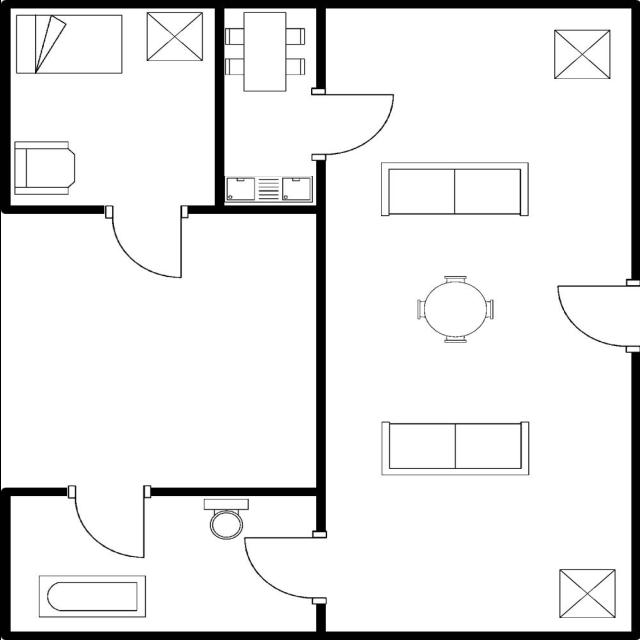armchair: (11, 136, 81, 200)
bed: (12, 11, 128, 79)
coffee_table: (548, 24, 614, 82), (554, 565, 620, 621), (142, 9, 208, 65)
dining_table: (223, 10, 310, 98)
large_sink: (198, 496, 252, 542)
large_sofa: (376, 418, 534, 480), (376, 158, 534, 218)
round_table: (411, 270, 499, 348)
tub: (33, 572, 149, 620)
twin_sink: (223, 172, 316, 204)
